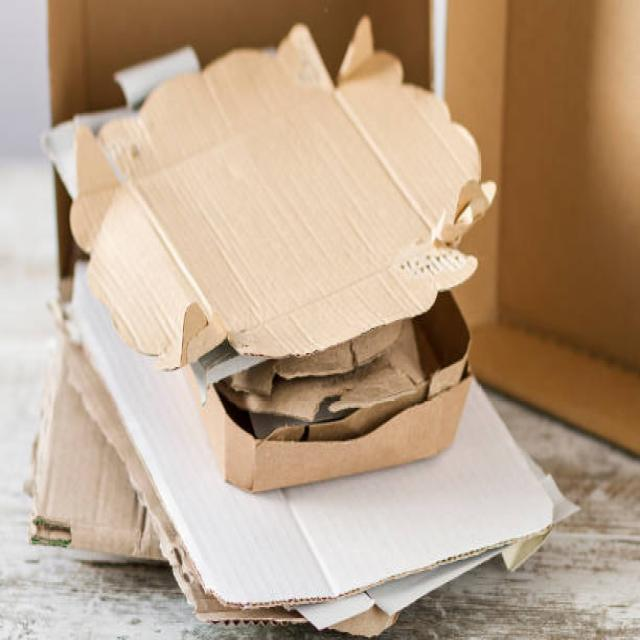electronic: (61, 258, 578, 630), (68, 14, 497, 381), (113, 44, 201, 108)
